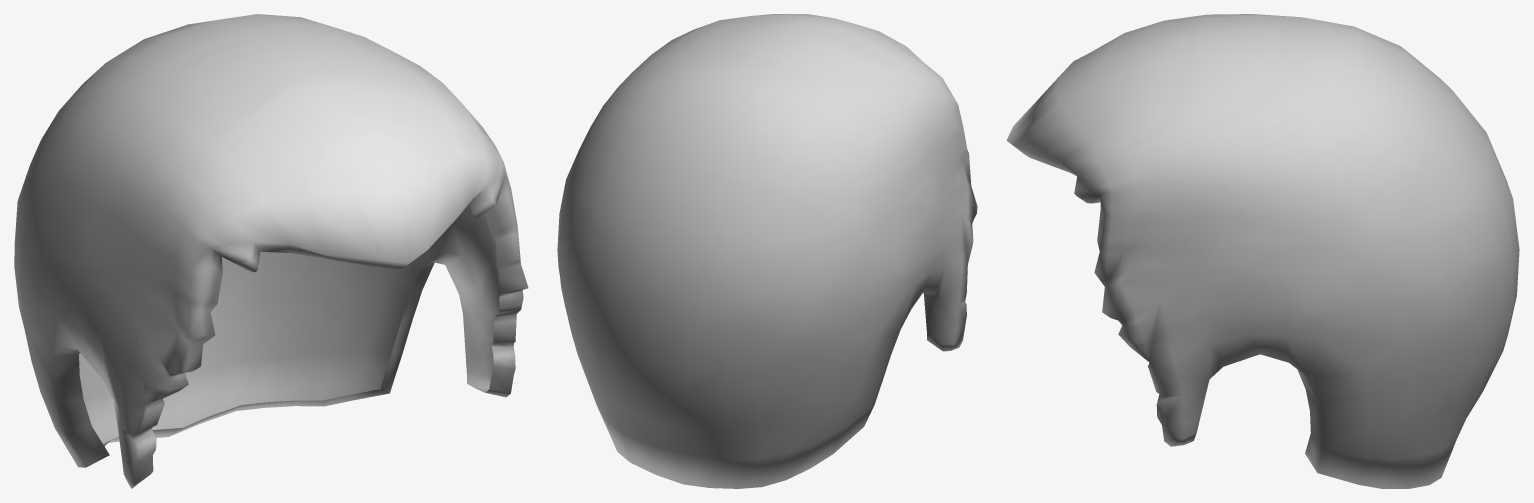
File: hair_04.glb
The picture shows the model from 3 angles, left to right: view 1: azimuth 30°, elevation 25°; view 2: azimuth 150°, elevation 25°; view 3: azimuth 270°, elevation 25°; orthographic projection. The views are drawn at different scales.
Parts seen in each view (by area): view 1: hair_04; view 2: hair_04; view 3: hair_04.
Boxes of the visible parts, x1,y1,x2,y2 form: hair_04: (14,14,528,488); hair_04: (557,14,977,488); hair_04: (1006,14,1519,488).
Size of the model in its own units: 0.1546 by 0.1714 by 0.1897.
Materials: 1 (1 with a texture image).
